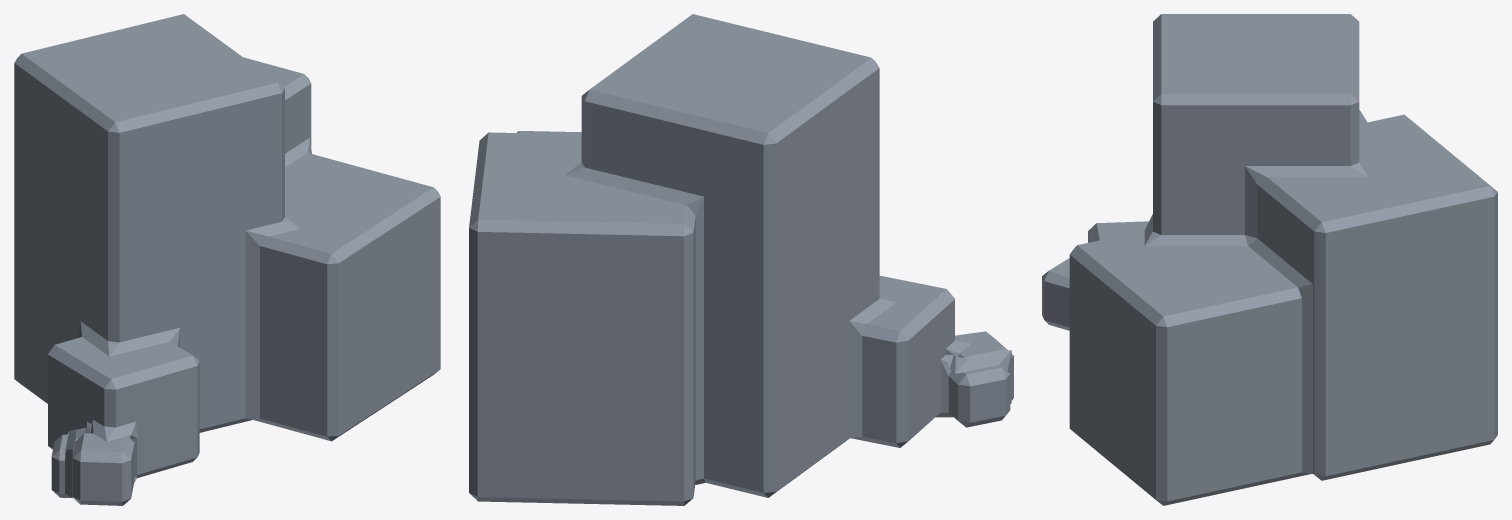
Rendered from Rock.fbx.
The picture shows the model from 3 angles, left to right: view 1: azimuth 30°, elevation 25°; view 2: azimuth 150°, elevation 25°; view 3: azimuth 270°, elevation 25°; orthographic projection. The views are drawn at different scales.
Parts seen in each view (by area): view 1: Rock; view 2: Rock; view 3: Rock.
Part boxes in pixels (box(x1,y1,x2,y2)): Rock: box(14, 14, 440, 505); Rock: box(469, 14, 1013, 505); Rock: box(1042, 14, 1497, 505).
Bounding box in the file's own units: 167 × 126 × 156.
